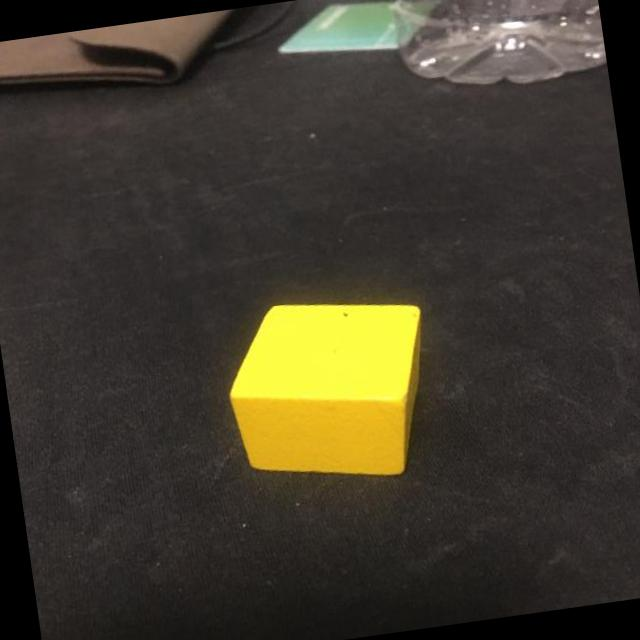yellow: (219, 282, 444, 496)
